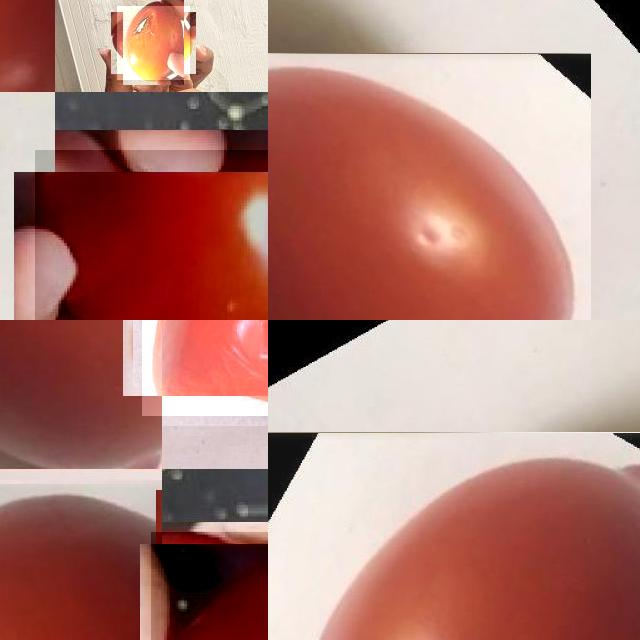Fresh Tomato: (268, 53, 591, 320), (268, 432, 640, 640), (34, 150, 268, 320), (0, 487, 159, 640), (0, 320, 162, 469), (151, 532, 268, 640)
Rotten Tomato: (142, 320, 268, 416), (117, 6, 190, 80)
